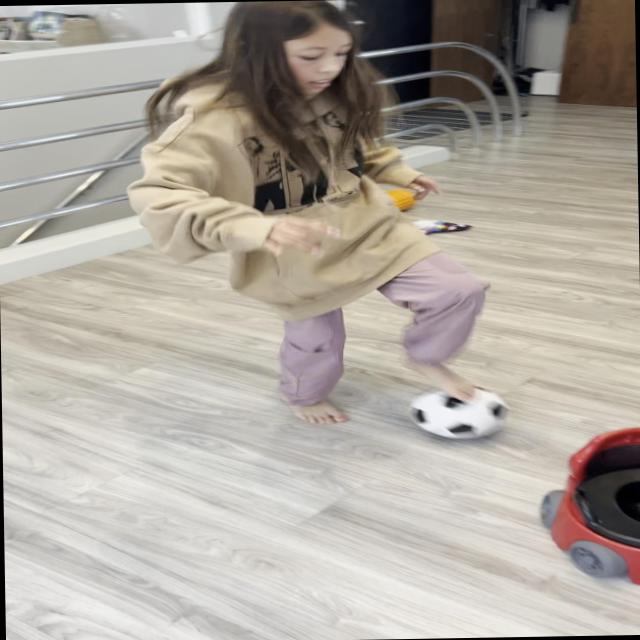Soccer Ball: (406, 382, 508, 440)
